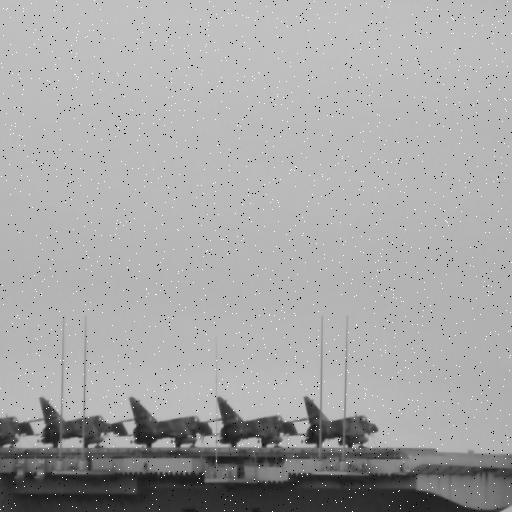Portanaves: (1, 307, 512, 512)
